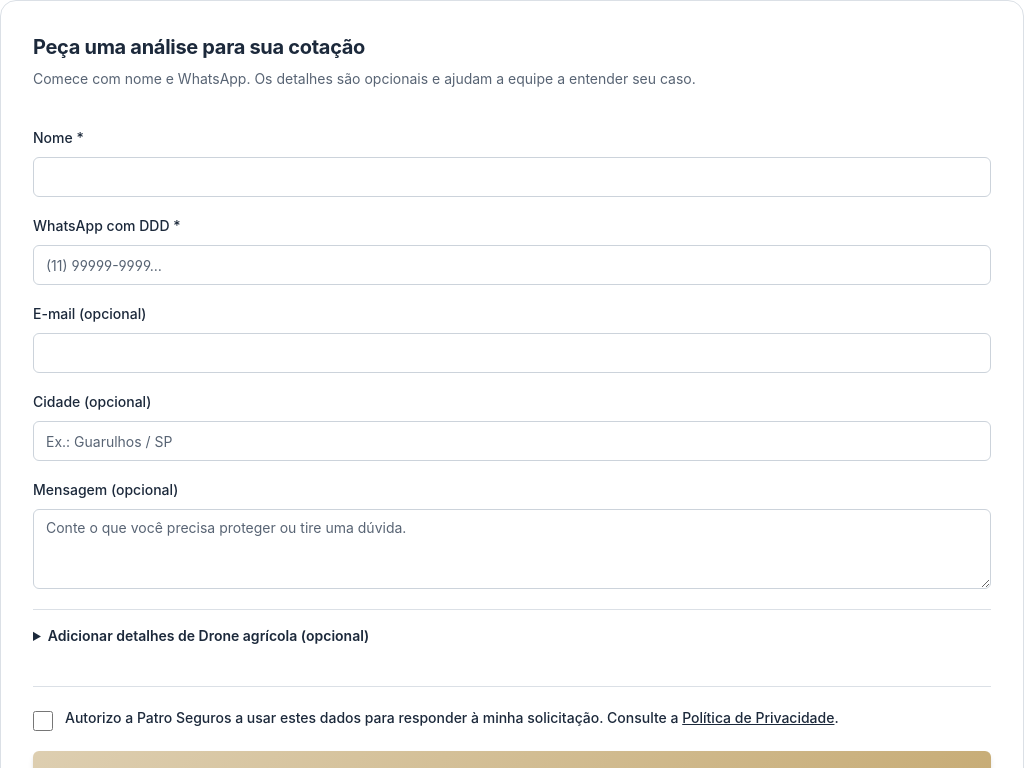
it: Captação por produto › não confirma sucesso quando o serviço não confirma o recebimento
Type "Maria Teste" into the field labelled "Nome *" at [512, 177], box [33,157,991,197]
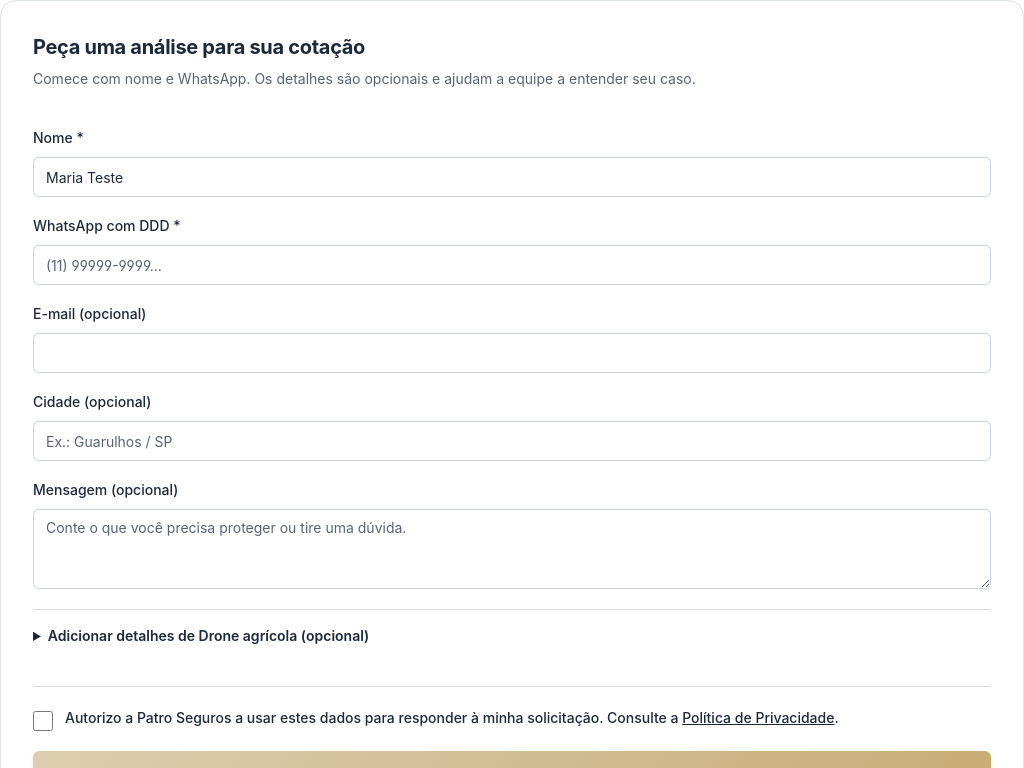
Type "11999999999" into the field labelled "WhatsApp com DDD *" at [512, 265], box [33,245,991,285]
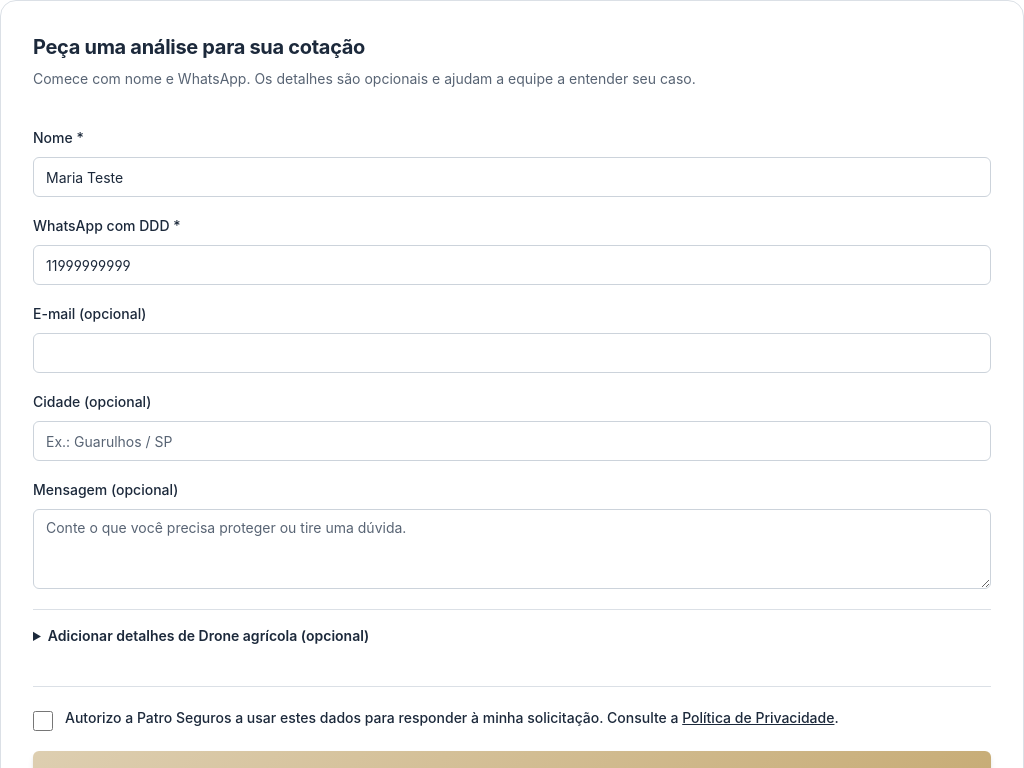
Click the checkbox at [43, 721], box [33,711,53,731]
(page scrolled)
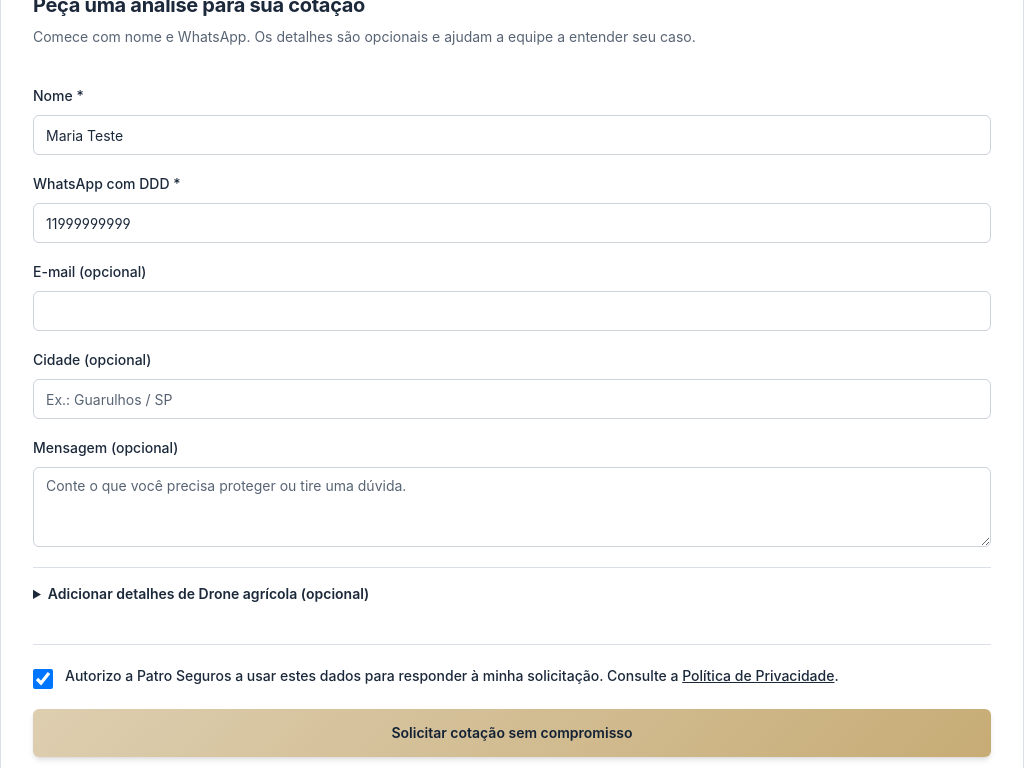
Submit the form
(page scrolled)
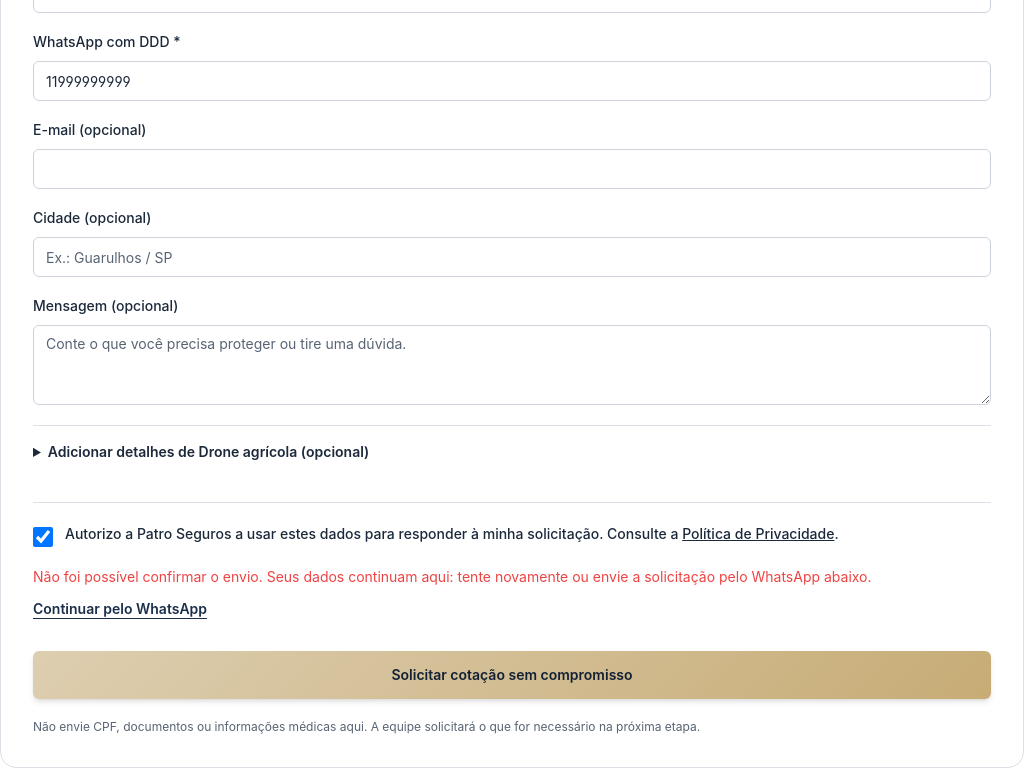
Now the message is shown, box [33,567,991,631]
